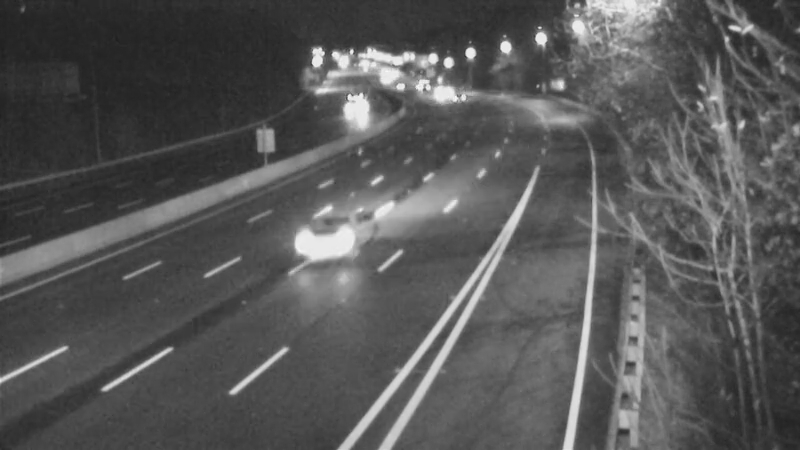vehicle: (277, 204, 357, 284), (372, 65, 422, 115), (418, 66, 468, 116), (433, 72, 483, 122), (322, 87, 372, 137)
